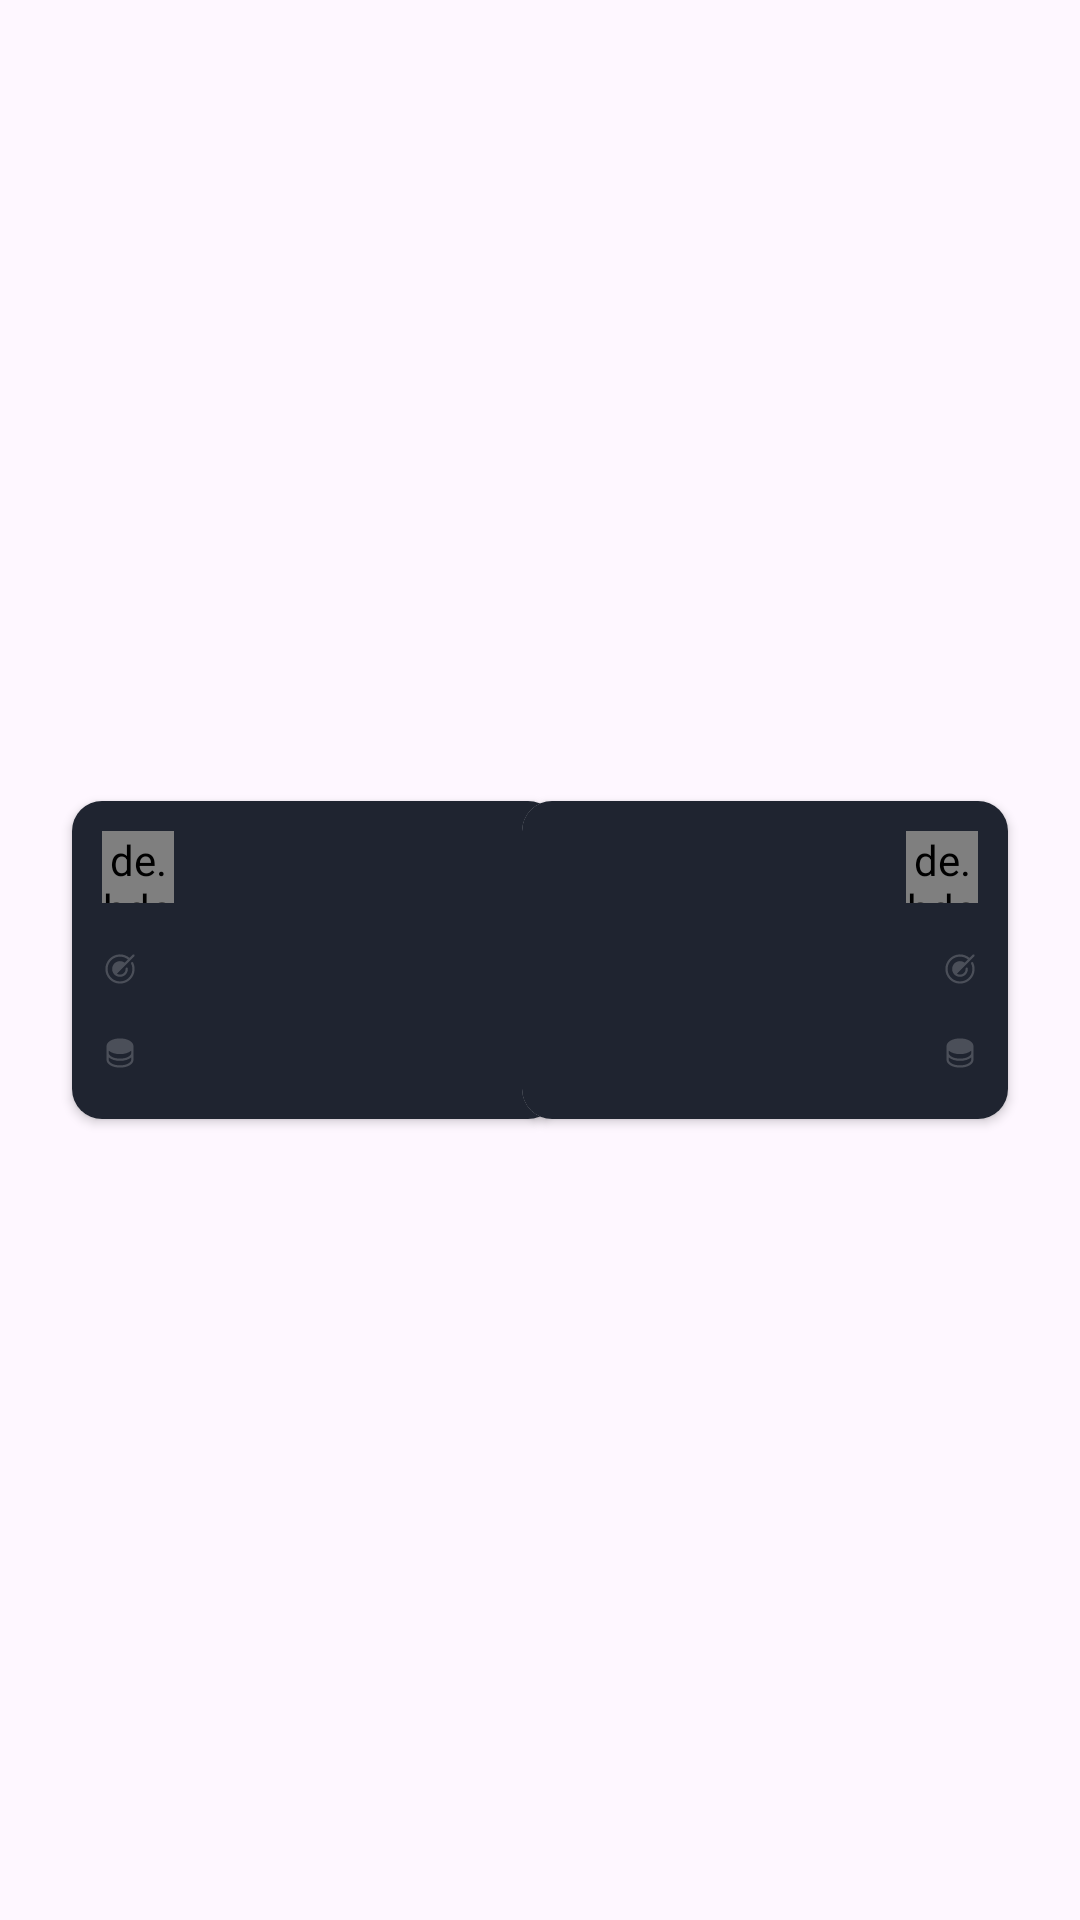

Locate icon controls on the screen. Image size 1080px x 1920px, boxes as (x1, y1, x2, y2).
database: (107, 1039, 133, 1067), (947, 1039, 973, 1067)
target: (106, 954, 134, 983), (946, 954, 974, 983)
